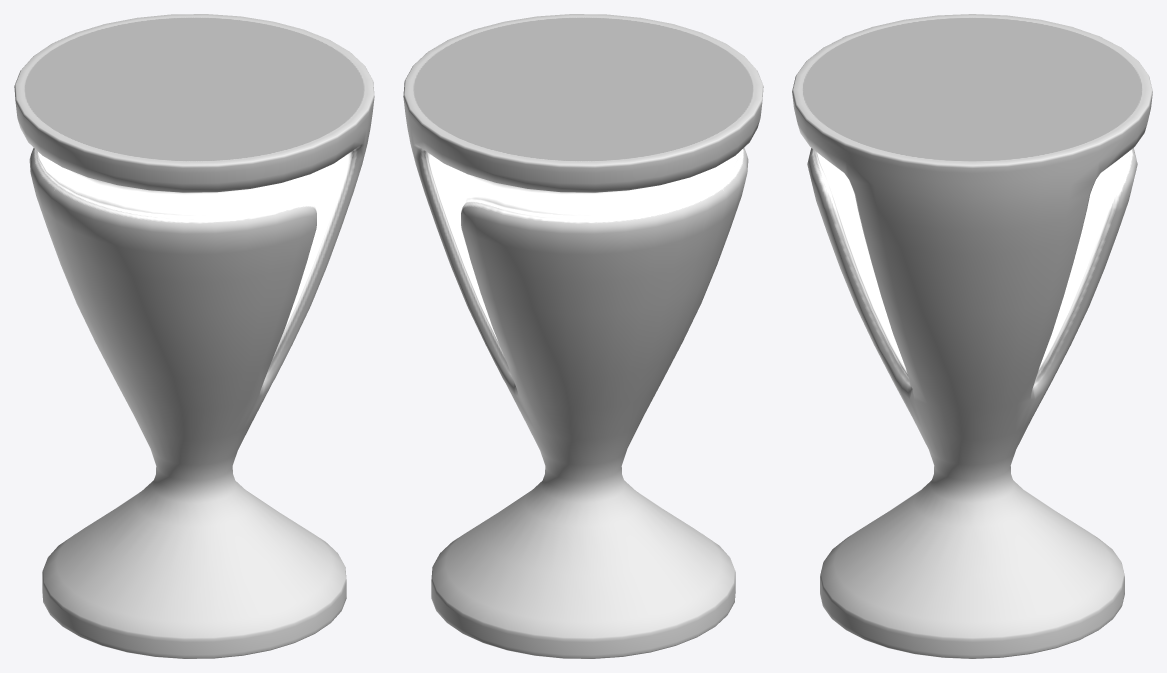
The model's file is BarTable06.FBX.
3 renders of one model, left to right at view 1: azimuth 30°, elevation 25°; view 2: azimuth 150°, elevation 25°; view 3: azimuth 270°, elevation 25°, orthographic.
Parts seen in each view (by area): view 1: BarTable06; view 2: BarTable06; view 3: BarTable06.
Part boxes in pixels (bbox=[...]): BarTable06: bbox=[14, 14, 374, 658]; BarTable06: bbox=[403, 14, 763, 658]; BarTable06: bbox=[792, 14, 1152, 658].
Size of what is drawn, in the model's own units: 0.7104 by 1.1 by 0.7104.
